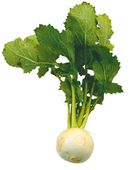turnip: (1, 1, 124, 165)
